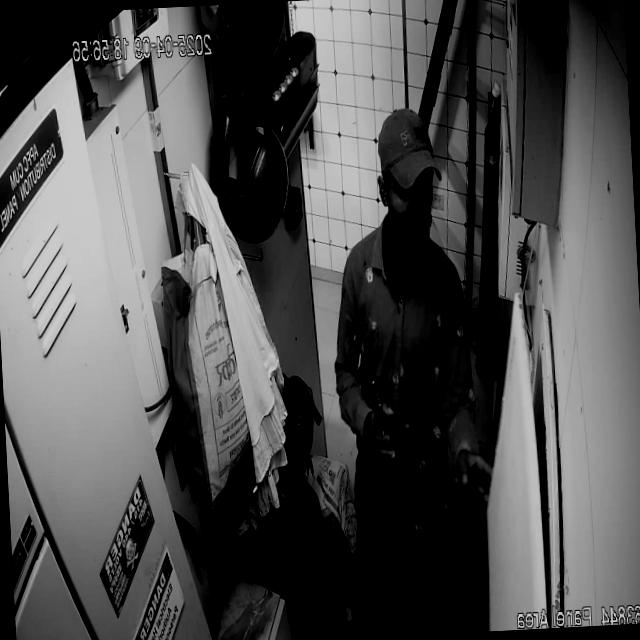helmet: (210, 87, 289, 241)
no_helmet: (376, 107, 442, 248)
